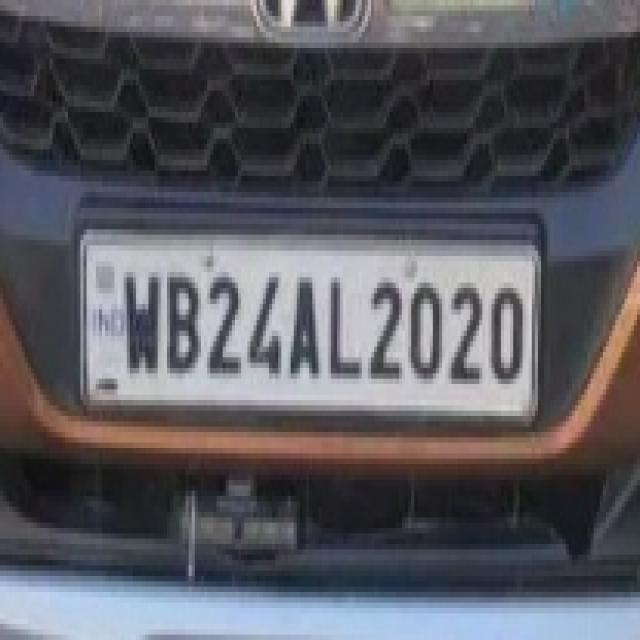0: (409, 255, 446, 396), (488, 266, 526, 396)
4: (248, 262, 288, 386)
A: (286, 266, 327, 390)
B: (166, 254, 201, 380)
L: (323, 262, 367, 394)
W: (120, 260, 162, 383)
